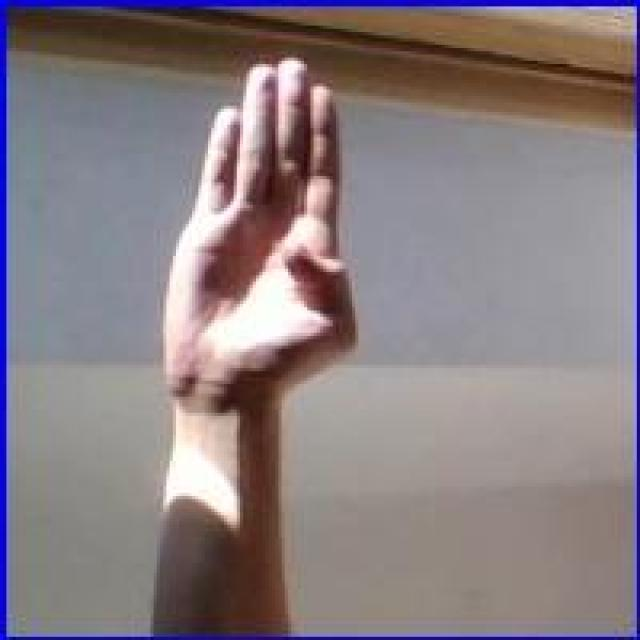B: (160, 53, 365, 427)
